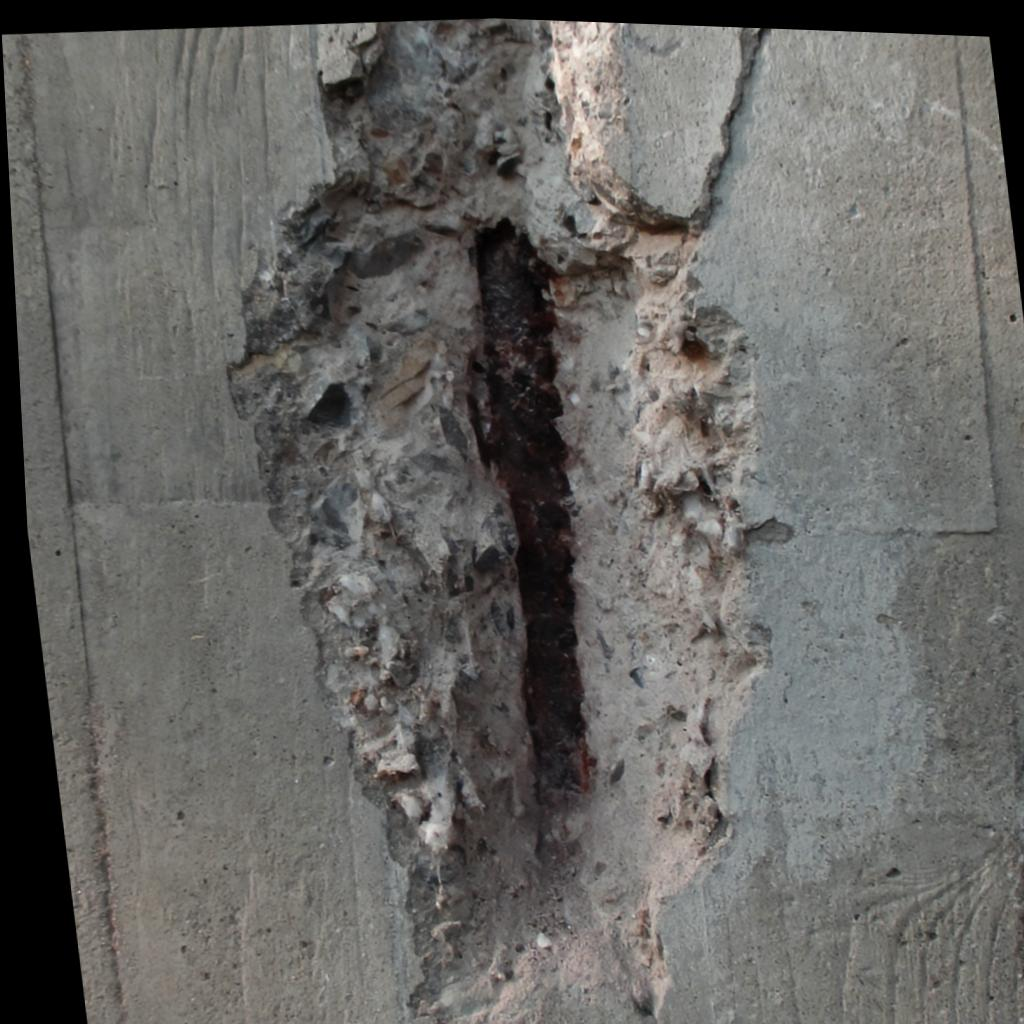exposed_rebar: (476, 221, 587, 789)
spalling: (232, 18, 760, 1024)
